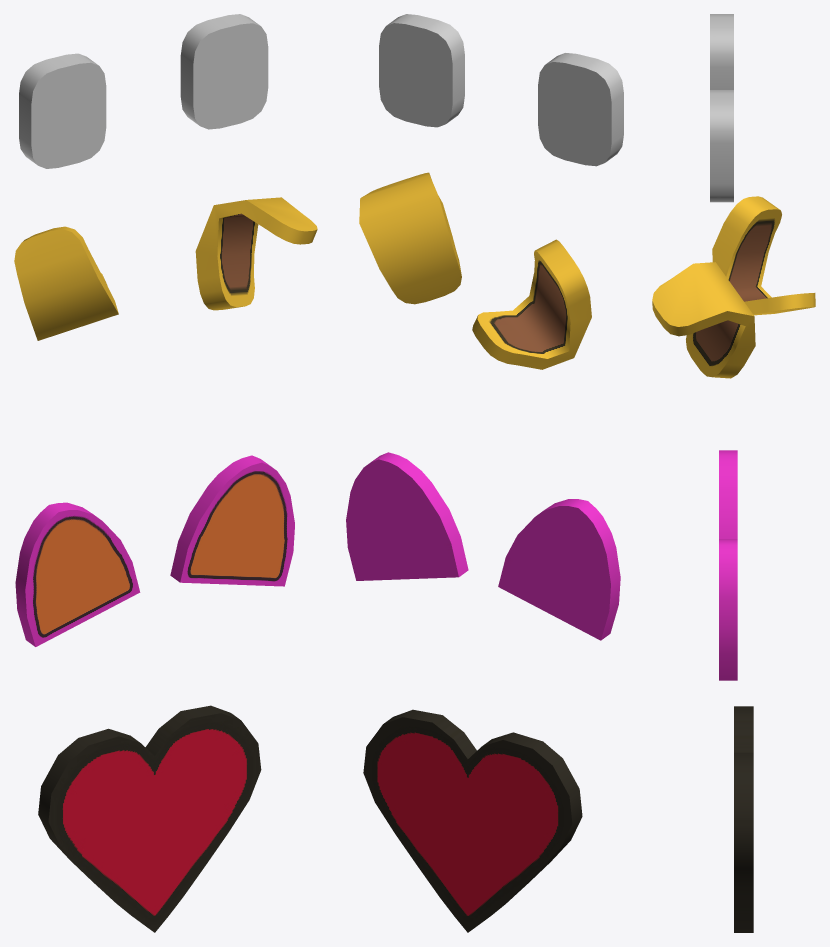
The model's file is usi modeli 2.FBX.
3 renders of one model, left to right at view 1: azimuth 30°, elevation 25°; view 2: azimuth 150°, elevation 25°; view 3: azimuth 270°, elevation 25°, orthographic. The views are drawn at different scales.
Visible parts, largest first — view 1: Plane010, Plane008, Plane009, Box001, Box002, Box008, Box007; view 2: Plane010, Plane008, Plane009, Box007, Box008, Box002, Box001; view 3: Box007, Box008, Plane010, Box001, Plane008, Box002, Plane009.
Boxes of the visible parts, x1,y1,x2,y2 form: Plane010: (38,705,261,932); Plane008: (170,455,294,586); Plane009: (15,502,140,646); Box001: (180,14,268,129); Box002: (19,53,106,168); Box008: (14,226,118,340); Box007: (195,197,317,310); Plane010: (363,709,582,932); Plane008: (346,452,468,580); Plane009: (498,499,620,640); Box007: (359,172,461,304); Box008: (472,239,591,369); Box002: (538,53,623,166); Box001: (379,14,464,127); Box007: (652,262,755,378); Box008: (712,196,815,315); Plane010: (734,706,753,932); Box001: (710,90,733,202); Plane008: (719,539,737,680); Box002: (710,14,733,89); Plane009: (719,450,737,538).
Bounding box in the file's own units: 546 × 1737 × 298.
